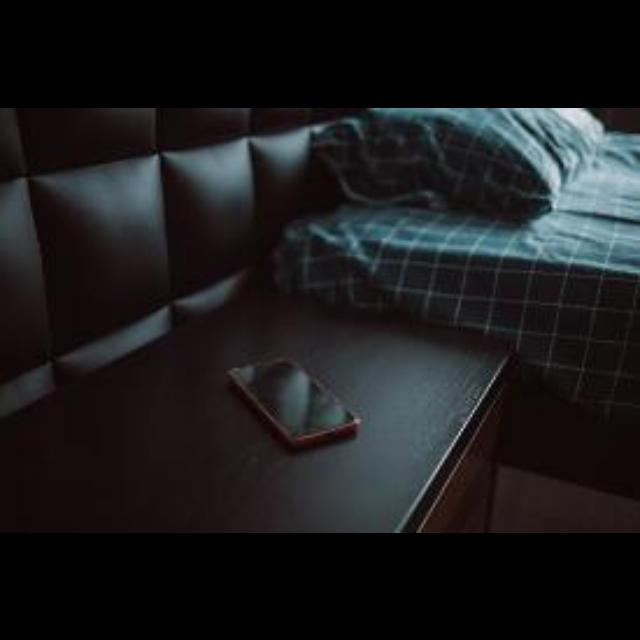Phone: (227, 359, 359, 447)
